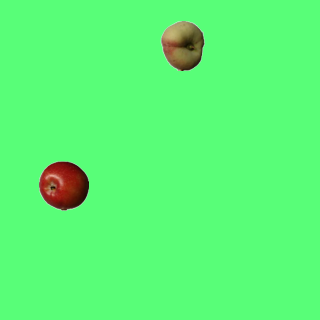Apple Braeburn: (38, 160, 88, 210)
Peach Flat: (157, 20, 207, 70)
